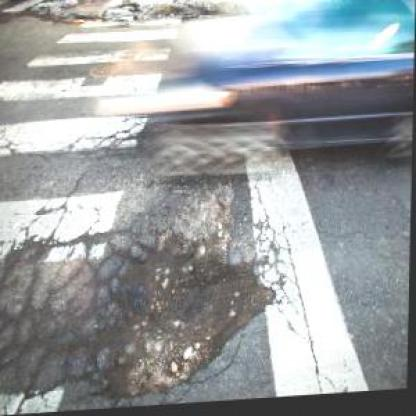pothole: (94, 231, 272, 405)
